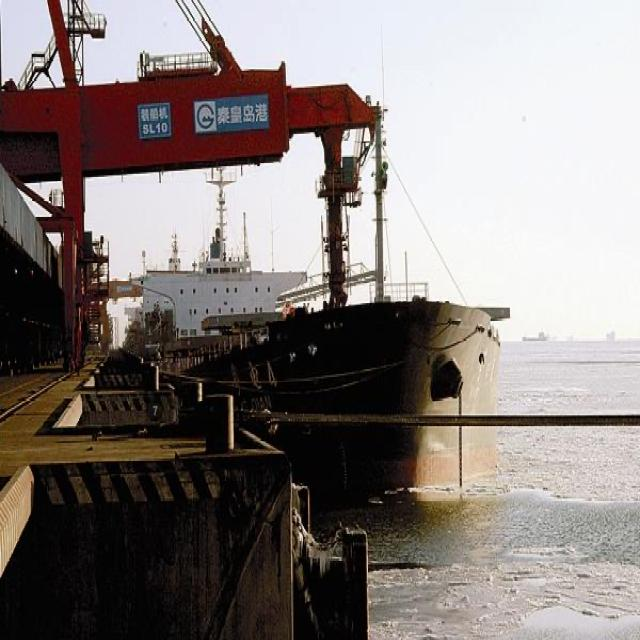cargoship: (161, 214, 487, 504)
